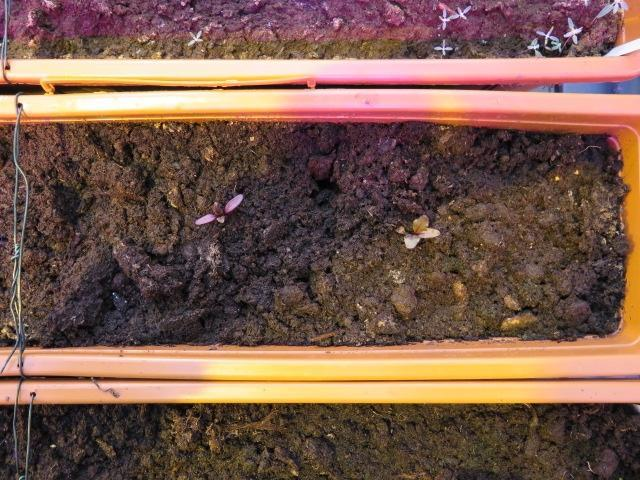crop: (386, 210, 445, 251), (190, 188, 249, 228)
weed: (430, 34, 455, 58), (181, 25, 204, 48)
